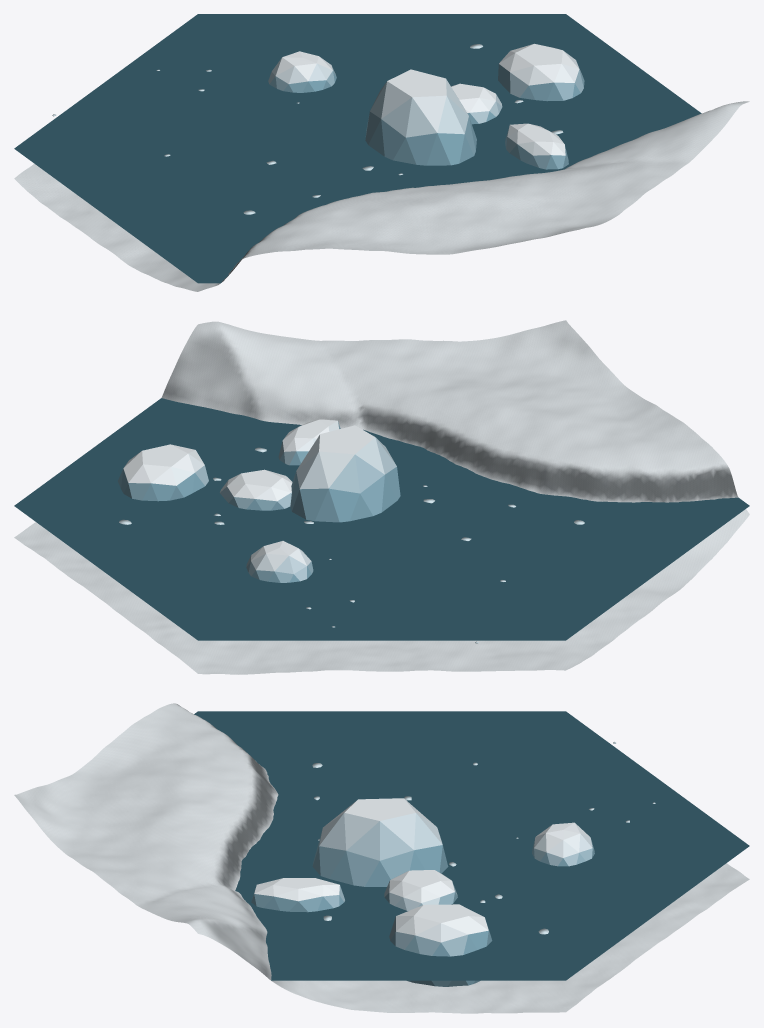
The picture shows the model from 3 angles, top to bottom: view 1: azimuth 30°, elevation 25°; view 2: azimuth 150°, elevation 25°; view 3: azimuth 270°, elevation 25°; orthographic projection.
Visible parts, largest first — view 1: sea_level_0, terrain_v10, WG_16_berg_02, WG_16_berg_00, WG_16_berg_04, WG_16_berg_03, WG_16_berg_01; view 2: sea_level_0, terrain_v10, WG_16_berg_02, WG_16_berg_00, WG_16_berg_01, WG_16_berg_03, WG_16_berg_04; view 3: sea_level_0, terrain_v10, WG_16_berg_02, WG_16_berg_00, WG_16_berg_04, WG_16_berg_01, WG_16_berg_03.
Boxes of the visible parts, left/top/right/bottom form: sea_level_0: left=14, top=14, right=701, bottom=283; terrain_v10: left=14, top=101, right=749, bottom=291; WG_16_berg_02: left=365, top=69, right=476, bottom=165; WG_16_berg_00: left=498, top=43, right=584, bottom=101; WG_16_berg_04: left=505, top=123, right=568, bottom=169; WG_16_berg_03: left=268, top=51, right=336, bottom=92; WG_16_berg_01: left=451, top=83, right=502, bottom=124; sea_level_0: left=14, top=398, right=749, bottom=640; terrain_v10: left=14, top=320, right=749, bottom=674; WG_16_berg_02: left=290, top=425, right=400, bottom=522; WG_16_berg_00: left=118, top=444, right=208, bottom=501; WG_16_berg_01: left=220, top=469, right=292, bottom=510; WG_16_berg_03: left=246, top=541, right=313, bottom=582; WG_16_berg_04: left=278, top=419, right=340, bottom=465; sea_level_0: left=194, top=711, right=749, bottom=980; terrain_v10: left=14, top=703, right=749, bottom=1013; WG_16_berg_02: left=312, top=798, right=448, bottom=886; WG_16_berg_00: left=389, top=904, right=492, bottom=986; WG_16_berg_04: left=251, top=878, right=344, bottom=912; WG_16_berg_01: left=384, top=870, right=457, bottom=910; WG_16_berg_03: left=532, top=822, right=594, bottom=866.
Bounding box in the file's own units: 4330 × 1111 × 5000.
Materials: 28 (1 with a texture image).
